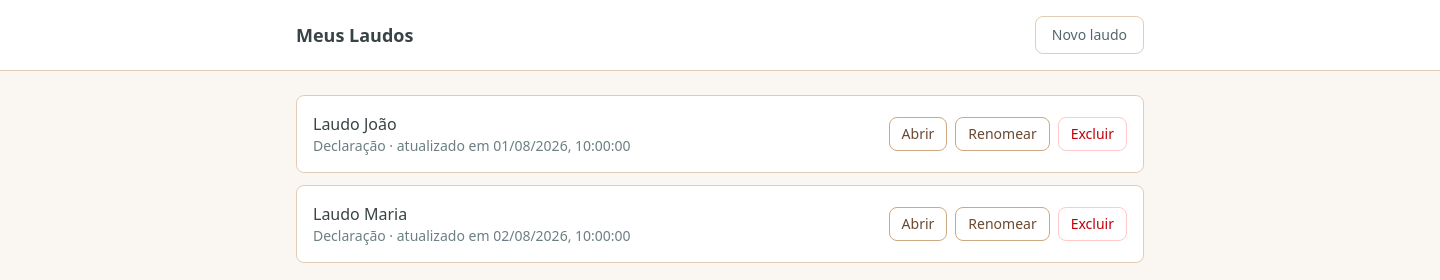
Scenario: MeusLaudosPage › renames a saved document
Expected: the text "Laudo João" is shown, x1=313 y1=113 x2=397 y2=135
Click the button "Renomear" in the row of "Laudo João" at (1002, 134), box x1=955 y1=117 x2=1050 y2=151
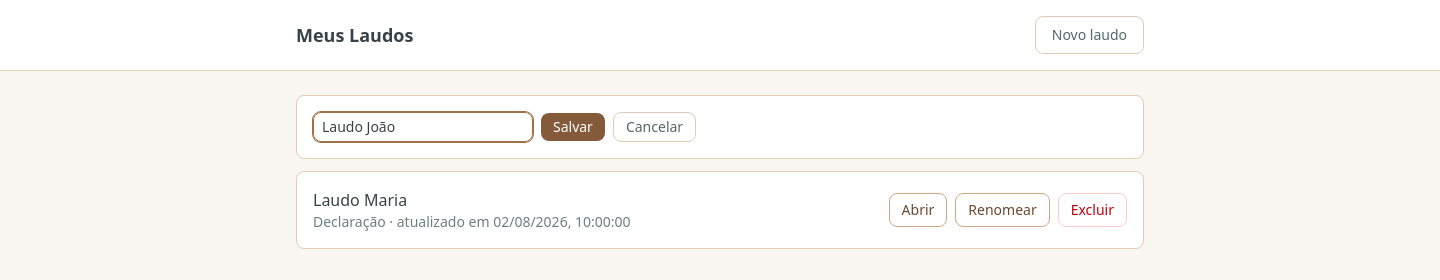
Replace the text in the field showing "Laudo João" with "Laudo João - revisado" at (423, 127), box x1=313 y1=112 x2=533 y2=142
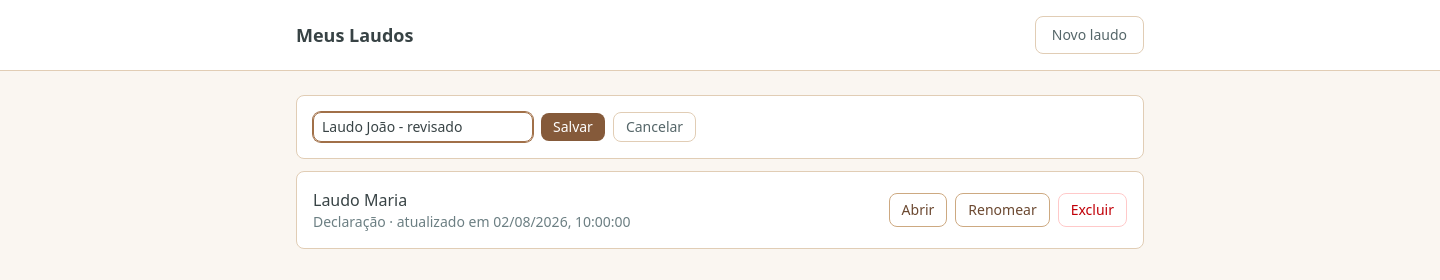
Click the button "Salvar" at (573, 127), box x1=541 y1=113 x2=605 y2=141
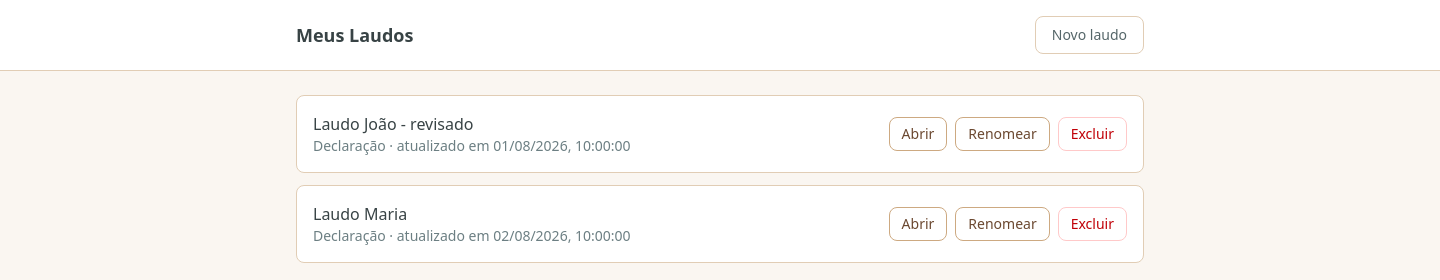
Expected: the text "Laudo João - revisado" is shown, x1=313 y1=113 x2=474 y2=135
